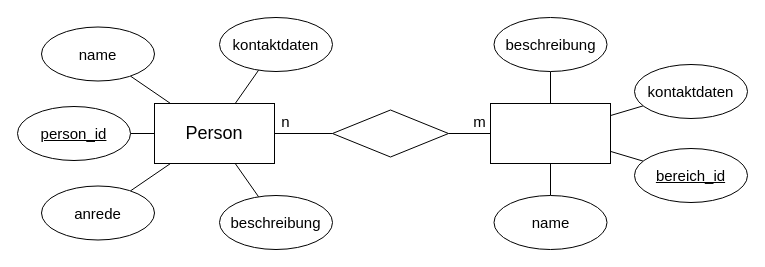
This 765x267 diagram has some shape labels left out. Each missing label, with the box of its shape:
Bereich: (490, 102, 610, 164)
gehört zu: (332, 109, 448, 157)
